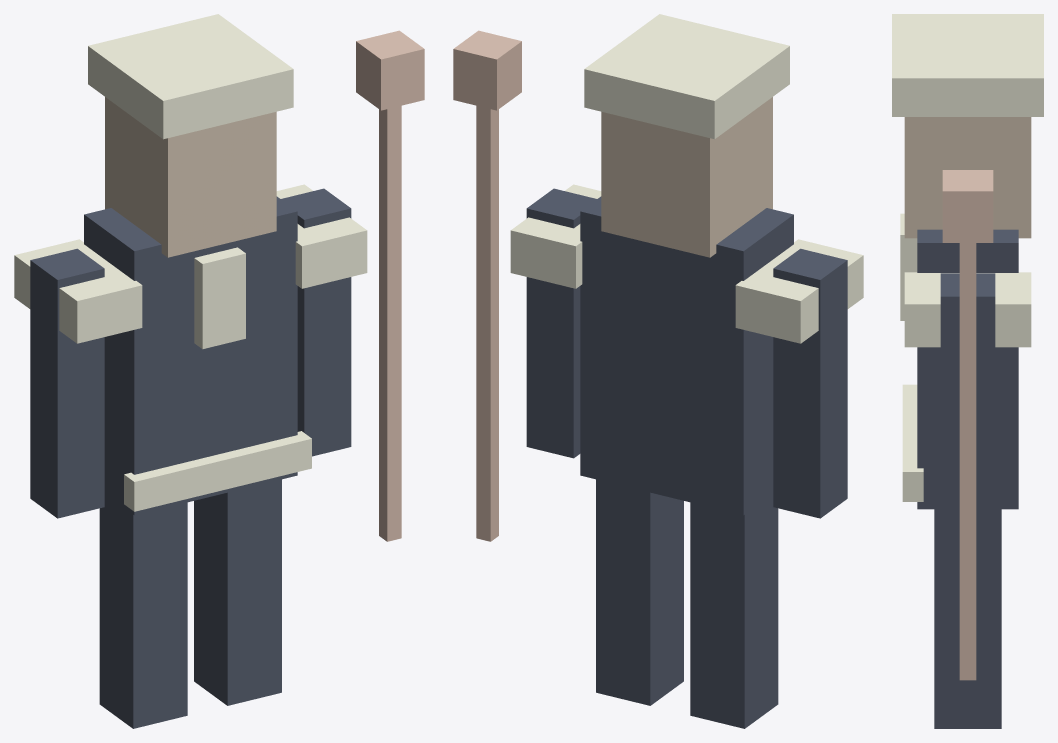
The model's file is 10_maven_brightlock_captain_under_surface.glb.
The picture shows the model from 3 angles, left to right: view 1: azimuth 30°, elevation 25°; view 2: azimuth 150°, elevation 25°; view 3: azimuth 270°, elevation 25°; orthographic projection.
Visible parts, largest first — view 1: Maven Brightlock, Captain under Surface; view 2: Maven Brightlock, Captain under Surface; view 3: Maven Brightlock, Captain under Surface.
Part boxes in pixels (left/top/right/bottom): Maven Brightlock, Captain under Surface: left=14, top=14, right=424, bottom=728; Maven Brightlock, Captain under Surface: left=453, top=14, right=863, bottom=728; Maven Brightlock, Captain under Surface: left=892, top=14, right=1043, bottom=728.
Bounding box in the file's own units: 0.9425 × 1.57 × 0.3343.
